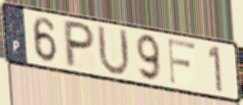1: (206, 45, 226, 95)
6: (30, 15, 58, 66)
9: (133, 33, 163, 84)
F: (166, 38, 197, 87)
P: (63, 18, 97, 70)
U: (95, 22, 132, 79)
